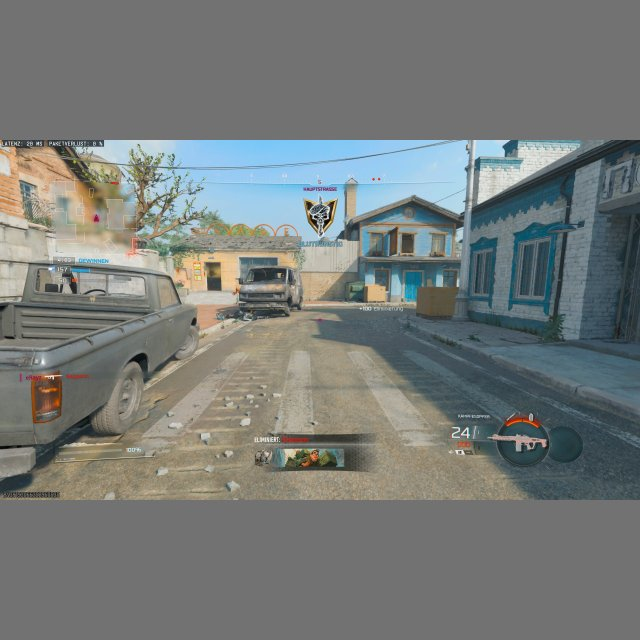player: (69, 274, 78, 293)
